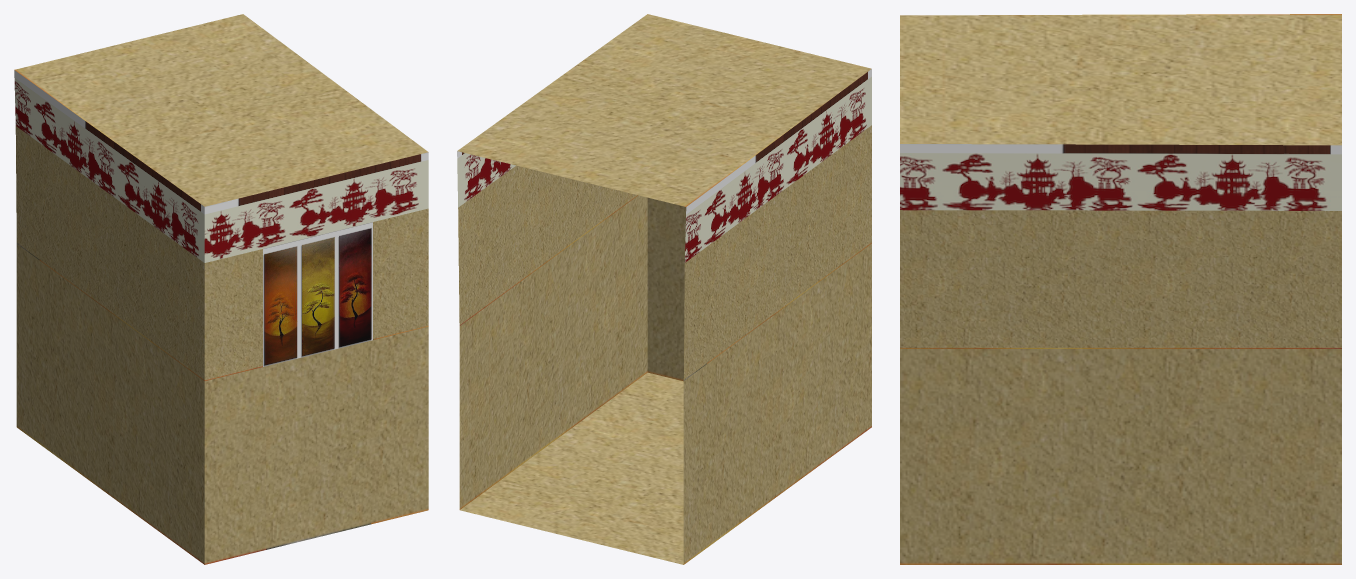
Rendered from indoorWall.fbx.
The picture shows the model from 3 angles, left to right: view 1: azimuth 30°, elevation 25°; view 2: azimuth 150°, elevation 25°; view 3: azimuth 270°, elevation 25°; orthographic projection. The views are drawn at different scales.
Parts seen in each view (by area): view 1: indoorWall; view 2: indoorWall; view 3: indoorWall.
Part boxes in pixels (x1,y1,x2,y2): indoorWall: [14, 14, 428, 564]; indoorWall: [457, 14, 871, 564]; indoorWall: [900, 14, 1341, 564].
Size of the model in its own units: 31.66 by 47.33 by 45.01.
Materials: 1 (1 with a texture image).
